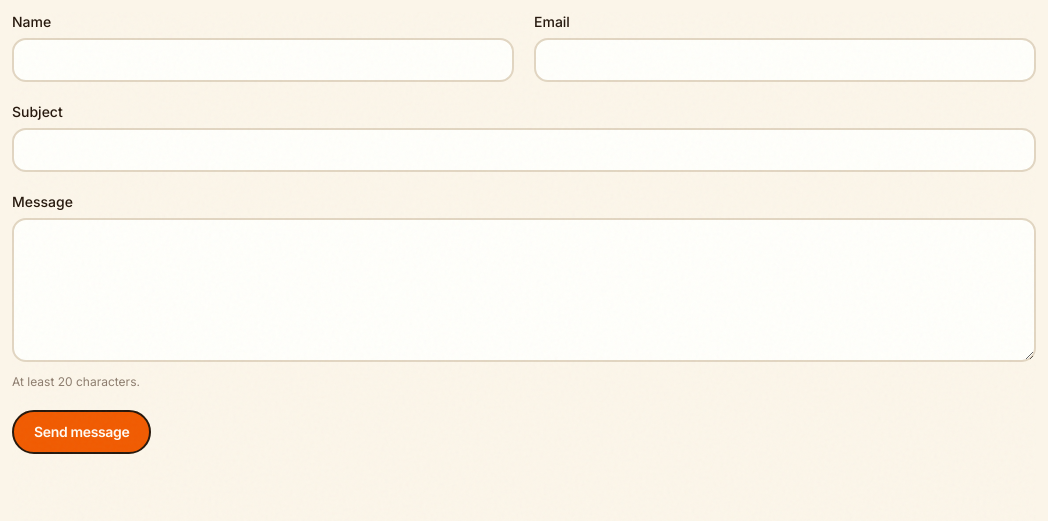
Test case: ContactForm › reports an invalid email address on the email field
This screenshot has width=1048, height=521.
Type "not-an-address" into the field labelled "Email" at x=785, y=60, box [534, 38, 1036, 82]
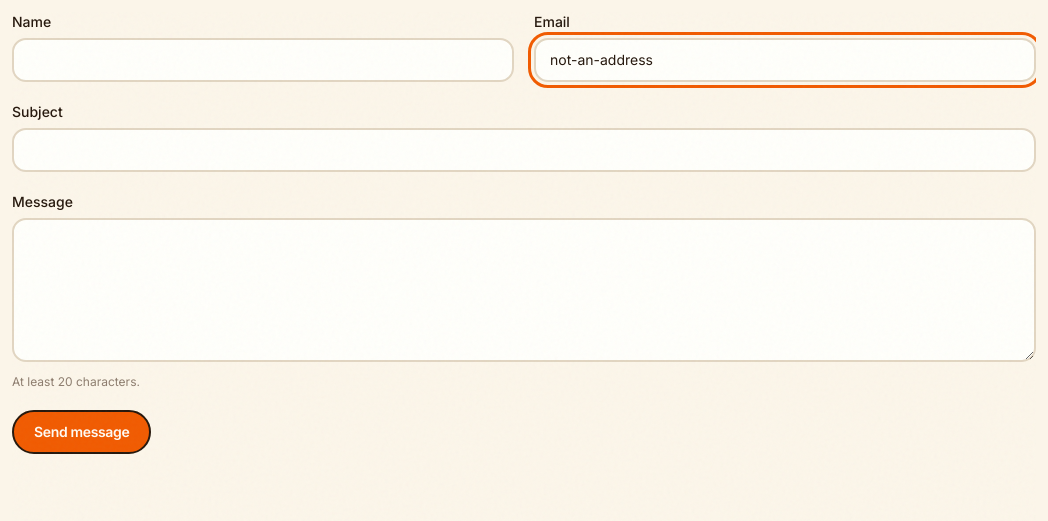
Click the button "Send message" at x=82, y=432, box [12, 410, 151, 454]
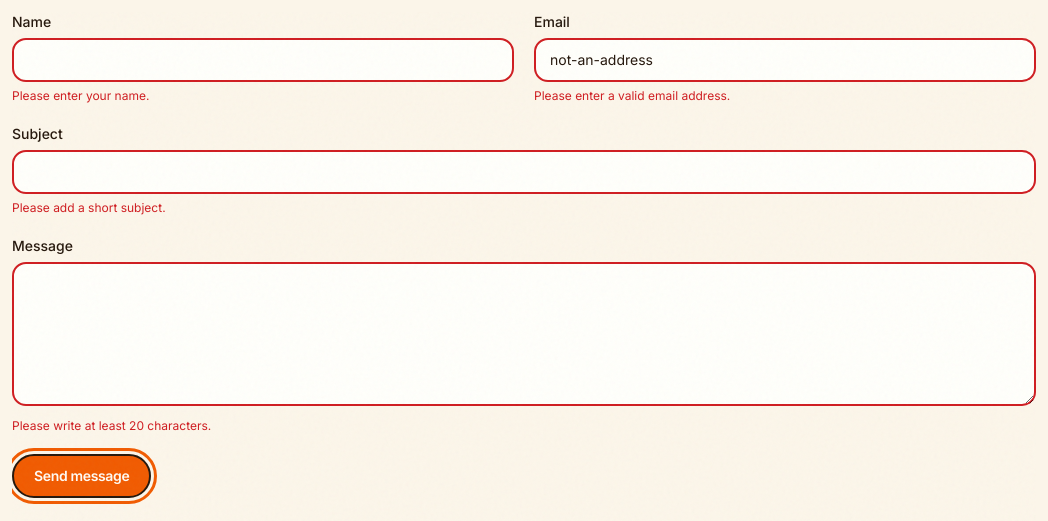
expect the text "Please enter a valid email address." is shown: met, box [534, 88, 730, 103]
